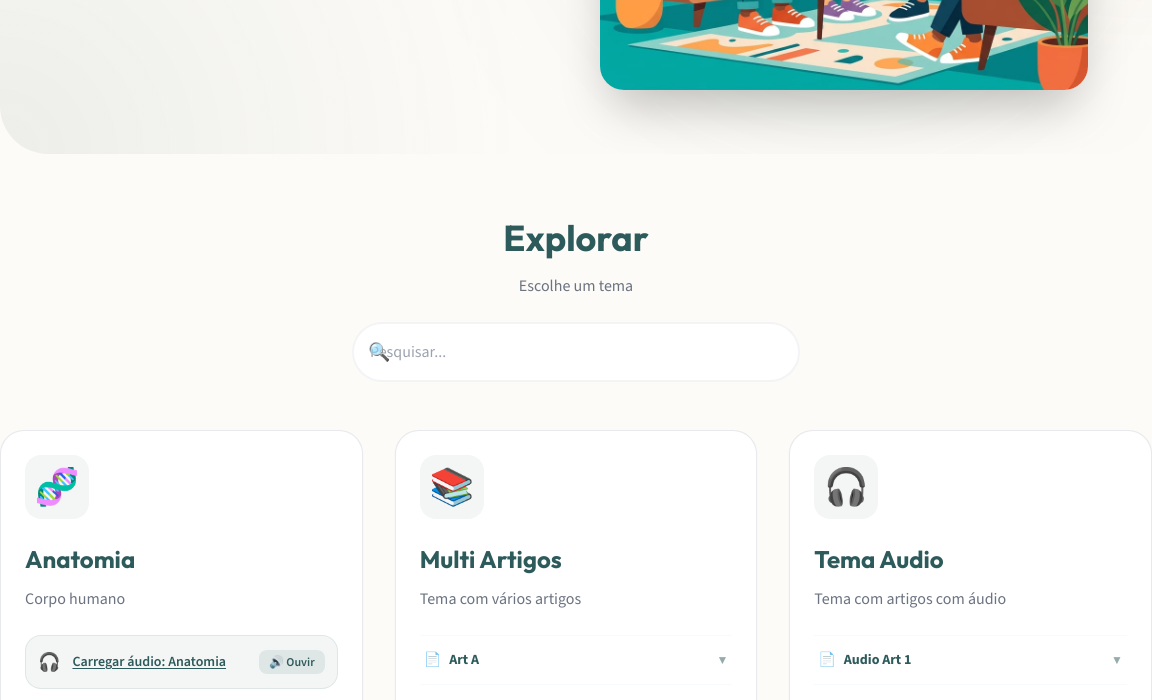
HomeTab › shows no results message when search has no matches
The width and height of the screenshot is (1152, 700).
(page scrolled)
Check: the heading "Anatomia" is shown, box [25,544,135,574]
Type "zzzzzz" into the search field with placeholder "Pesquisar..." at (576, 352), box [352,322,800,382]
(page scrolled)
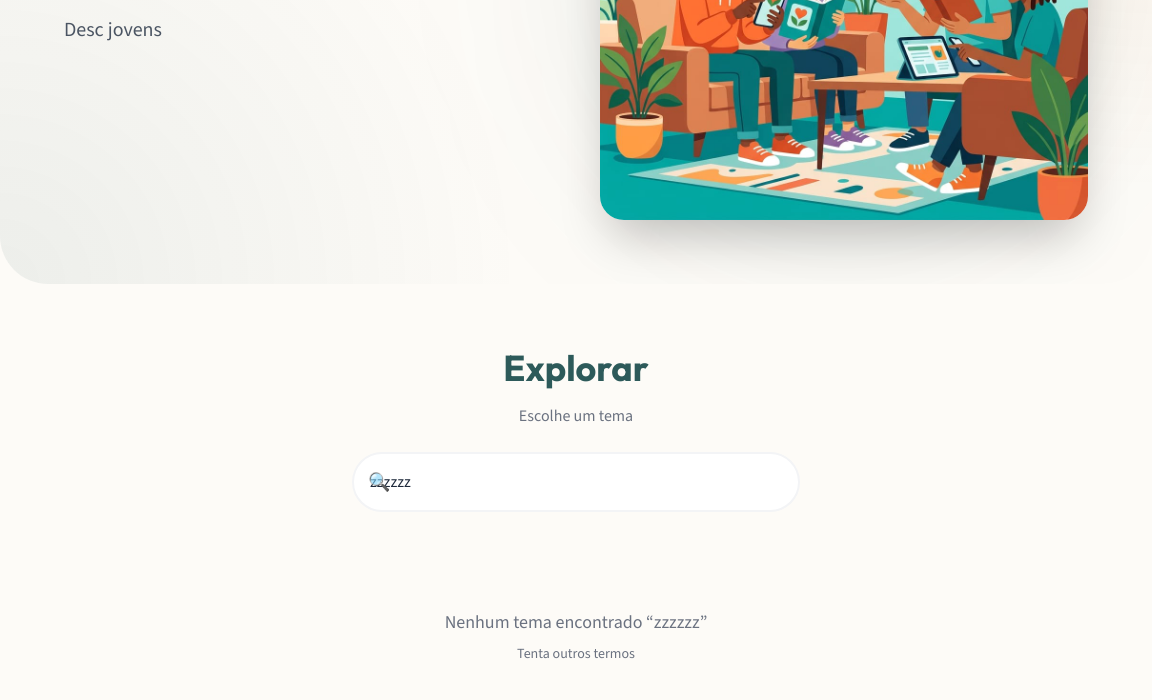
Check: the text "Nenhum tema encontrado “zzzzzz”" is shown, box [445,610,707,634]
Check: the text "Tenta outros termos" is shown, box [517,644,635,663]
